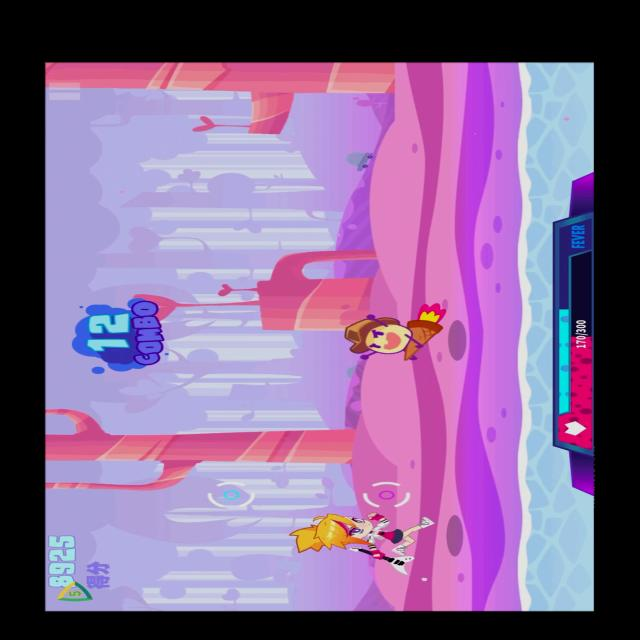qiu: (342, 298, 459, 362)
